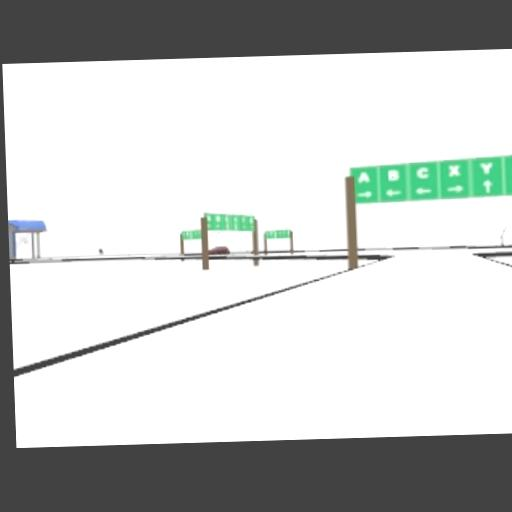A: (357, 171, 369, 182)
B: (387, 168, 399, 179)
C: (414, 166, 428, 179)
Left: (384, 187, 403, 196), (415, 187, 432, 194)
Right: (446, 185, 463, 193), (356, 190, 373, 197)
Straight: (481, 178, 492, 193)
X: (449, 165, 461, 176)
Y: (479, 162, 492, 174)
